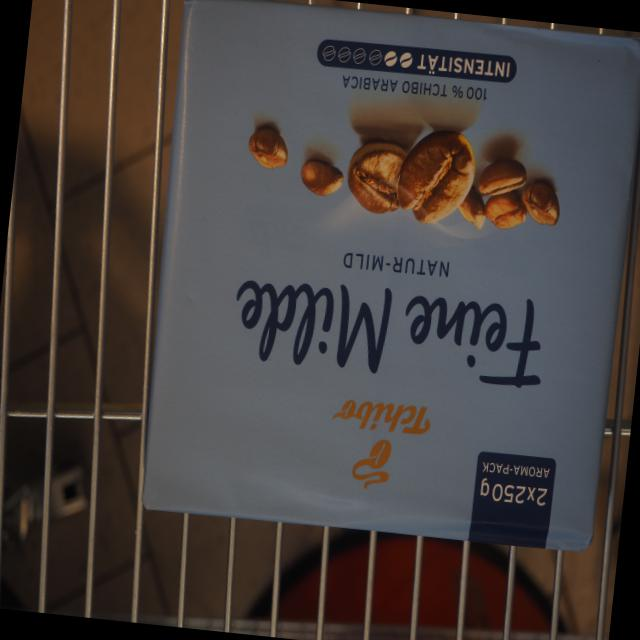FM Gemahlen: (138, 0, 640, 560)
